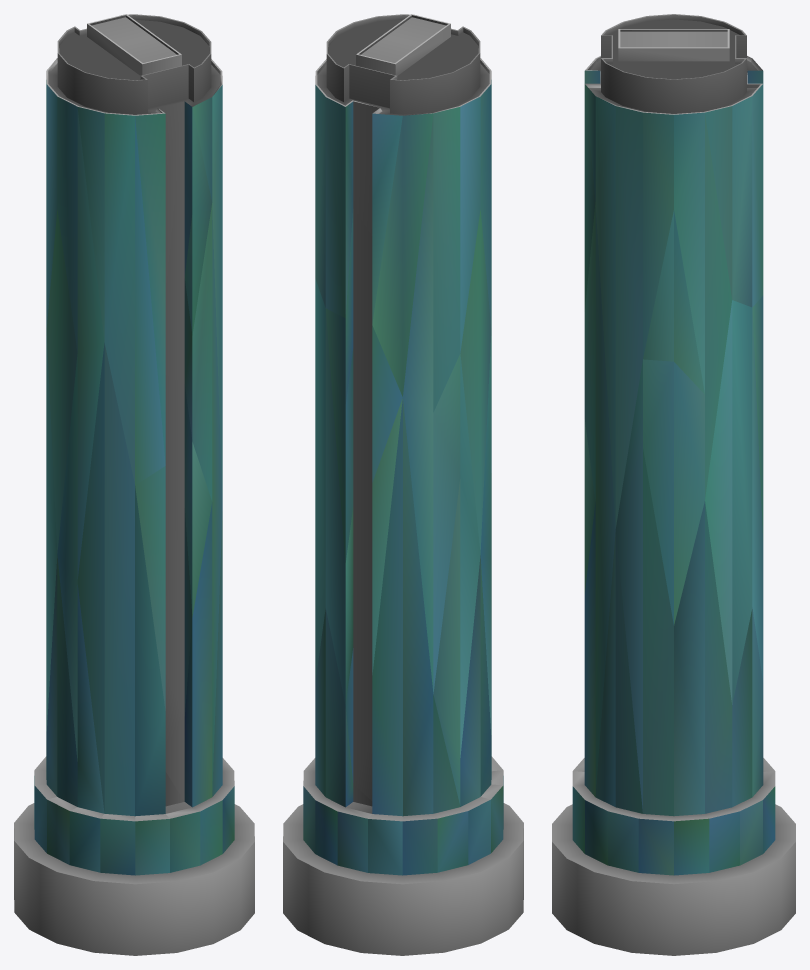
The model's file is buildings-industrial-modernskyscraper_v1.glb.
3 renders of one model, left to right at view 1: azimuth 30°, elevation 25°; view 2: azimuth 150°, elevation 25°; view 3: azimuth 270°, elevation 25°, orthographic.
Visible parts, largest first — view 1: ModernSkyscraper_v1_windowRefl, ModernSkyscraper_v1_base; view 2: ModernSkyscraper_v1_windowRefl, ModernSkyscraper_v1_base; view 3: ModernSkyscraper_v1_windowRefl, ModernSkyscraper_v1_base.
Part boxes in pixels (left/top/right/bottom): ModernSkyscraper_v1_windowRefl: left=34, top=80, right=234, bottom=875; ModernSkyscraper_v1_base: left=14, top=14, right=254, bottom=955; ModernSkyscraper_v1_windowRefl: left=303, top=80, right=503, bottom=875; ModernSkyscraper_v1_base: left=283, top=14, right=523, bottom=955; ModernSkyscraper_v1_windowRefl: left=572, top=70, right=775, bottom=875; ModernSkyscraper_v1_base: left=552, top=14, right=795, bottom=955.
Size of the model in its own units: 20.98 by 82.3 by 21.01.
